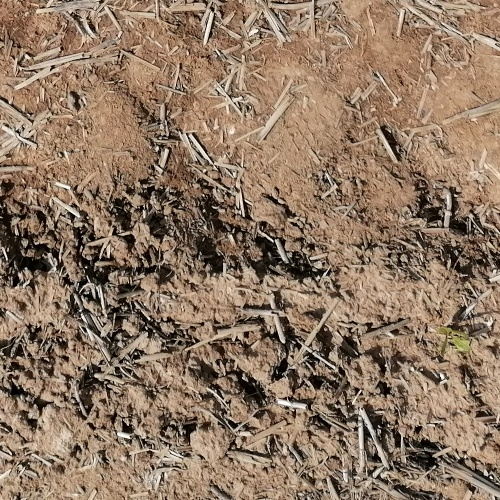beet: (436, 325, 472, 356)
